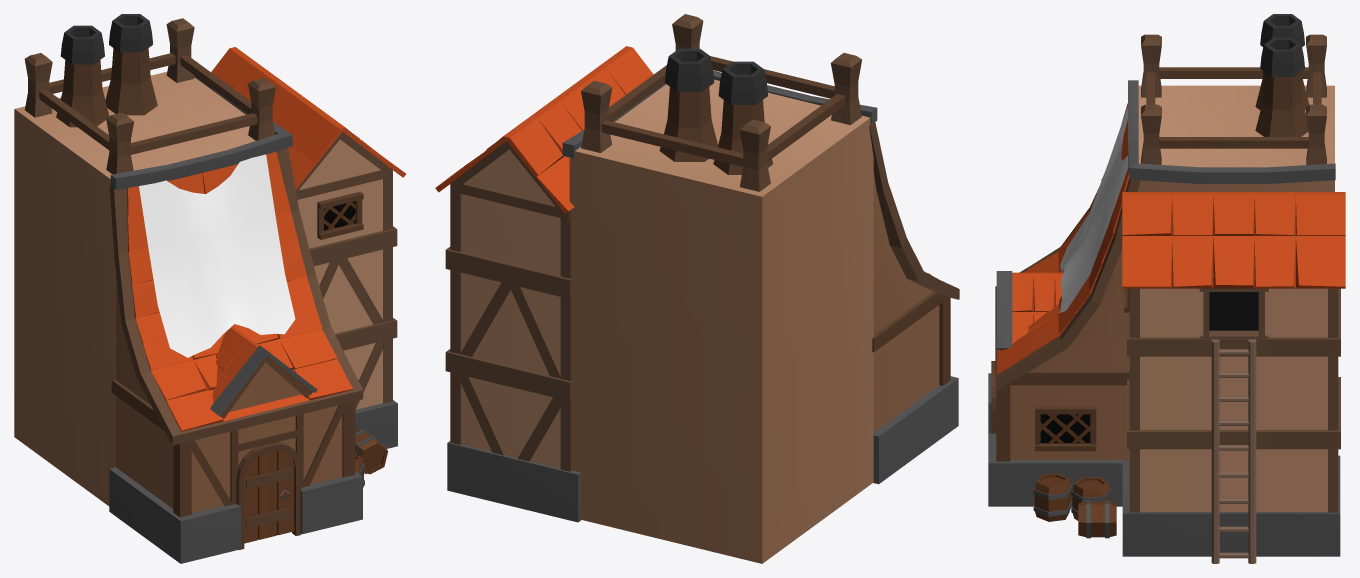
Rendered from Town Hall Level 6.glb.
3 views of the same model, side by side, from view 1: azimuth 30°, elevation 25°; view 2: azimuth 150°, elevation 25°; view 3: azimuth 270°, elevation 25° (orthographic). The views are drawn at different scales.
Visible parts, largest first — view 1: Town Hall Level 6 Base, Flag.006, Door.006; view 2: Town Hall Level 6 Base; view 3: Town Hall Level 6 Base, Flag.006.
Boxes of the visible parts, x1,y1,x2,y2 form: Town Hall Level 6 Base: [14, 14, 405, 563]; Flag.006: [139, 154, 295, 357]; Door.006: [244, 450, 293, 543]; Town Hall Level 6 Base: [435, 14, 959, 563]; Town Hall Level 6 Base: [988, 14, 1345, 563]; Flag.006: [1060, 106, 1128, 312].
Size of the model in its own units: 6.39 by 8.41 by 6.46.
2 materials, 2 textured.
